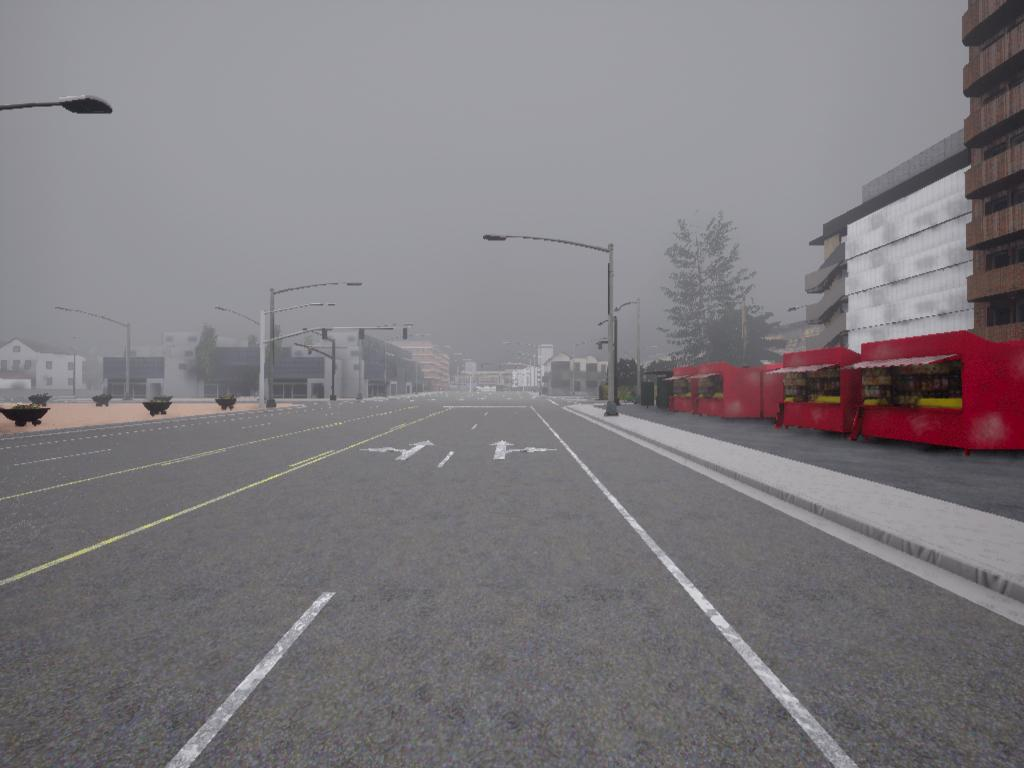traffic_light: (402, 328, 409, 342), (358, 330, 366, 342), (323, 329, 329, 341), (596, 342, 604, 351), (308, 346, 314, 358), (514, 363, 518, 370), (500, 364, 503, 370), (482, 363, 484, 370)
